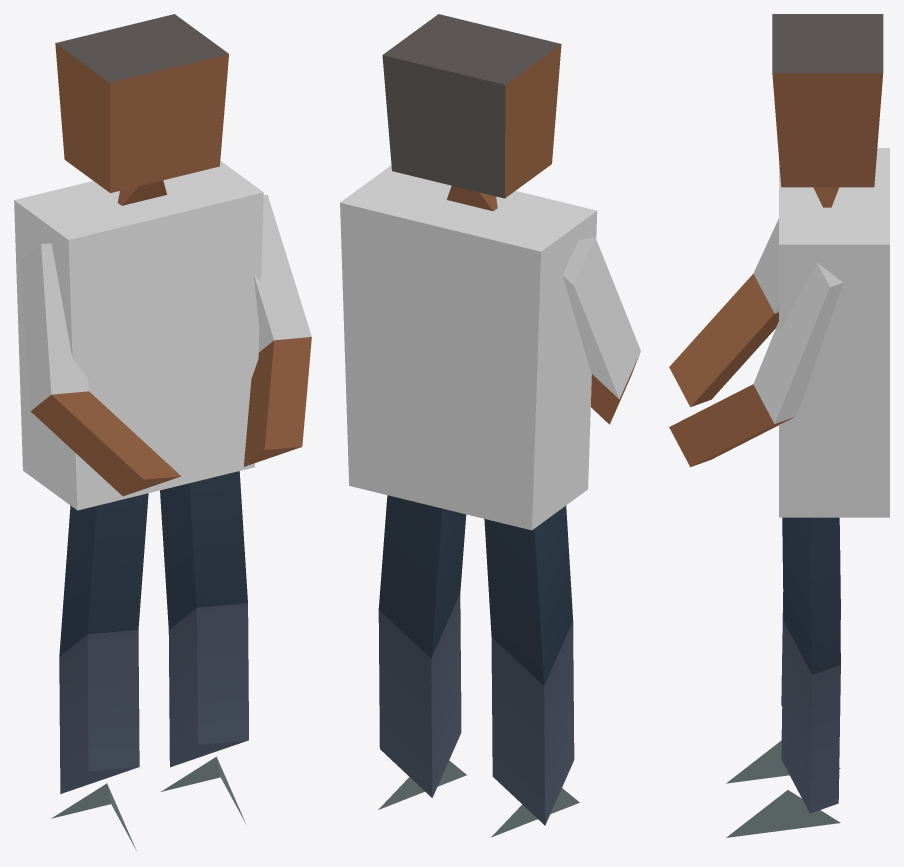
File: fan-12.glb
3 renders of one model, left to right at view 1: azimuth 30°, elevation 25°; view 2: azimuth 150°, elevation 25°; view 3: azimuth 270°, elevation 25°, orthographic. The views are drawn at different scales.
Parts seen in each view (by area): view 1: fan-12; view 2: fan-12; view 3: fan-12.
Boxes of the visible parts, x1,y1,x2,y2 form: fan-12: [14, 14, 311, 850]; fan-12: [340, 14, 640, 837]; fan-12: [669, 14, 889, 837].
Bounding box in the file's own units: 0.7175 × 1.91 × 0.4978.
